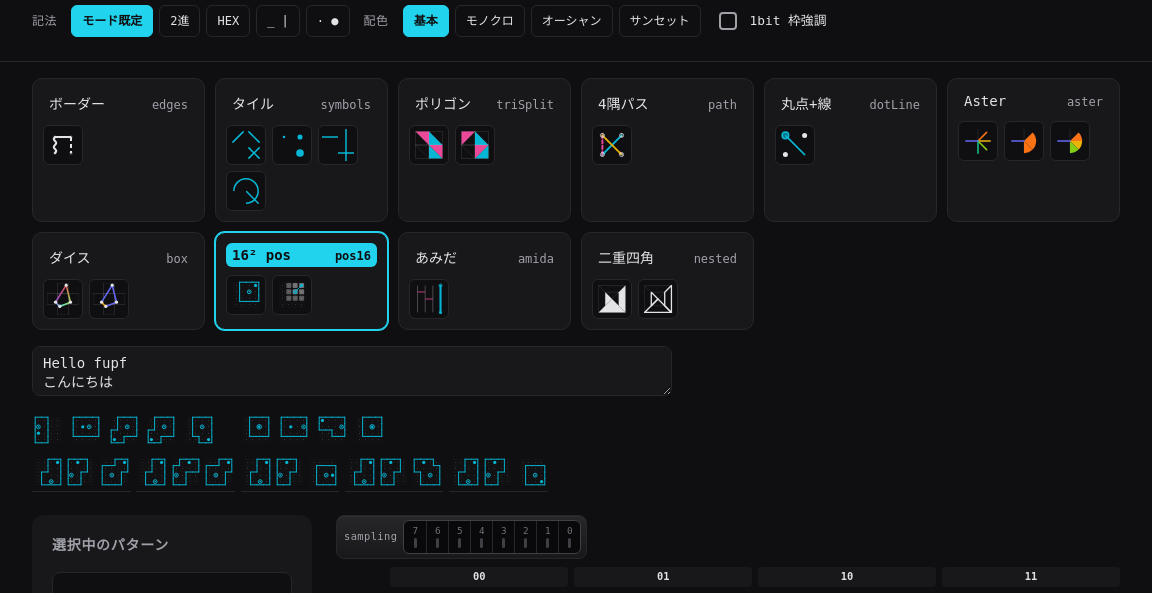
Scenario: App › applies a mode sample option preset
Click the button named "ポリゴン: ひし形" at (475, 145), box [455, 125, 495, 165]
(page scrolled)
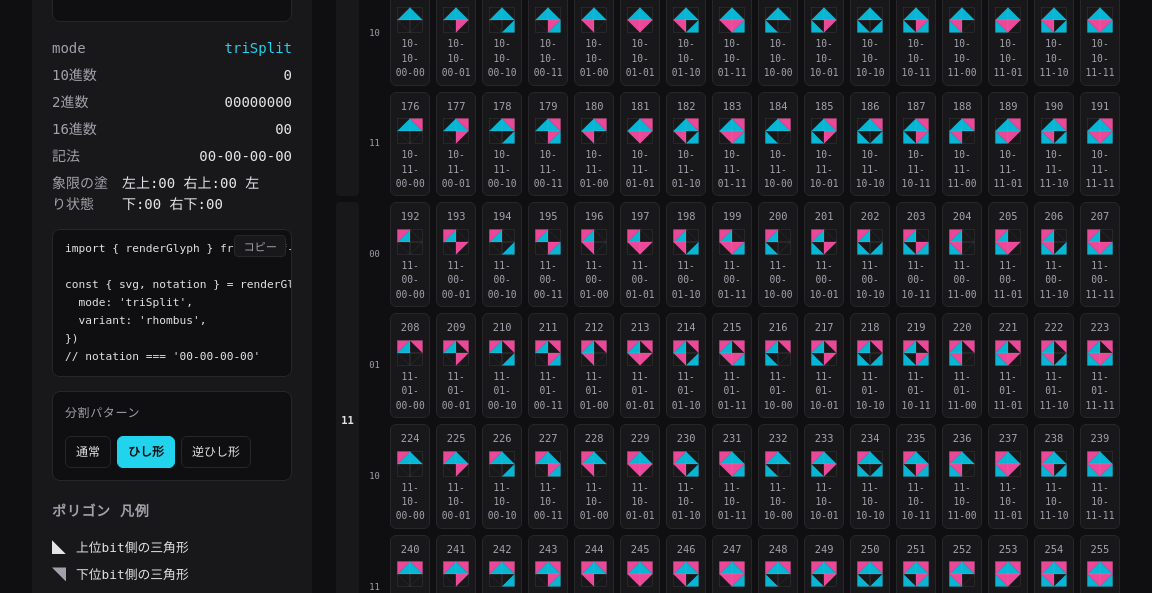
expect the radio button labelled "ひし形" is checked: met, box [117, 436, 175, 468]
